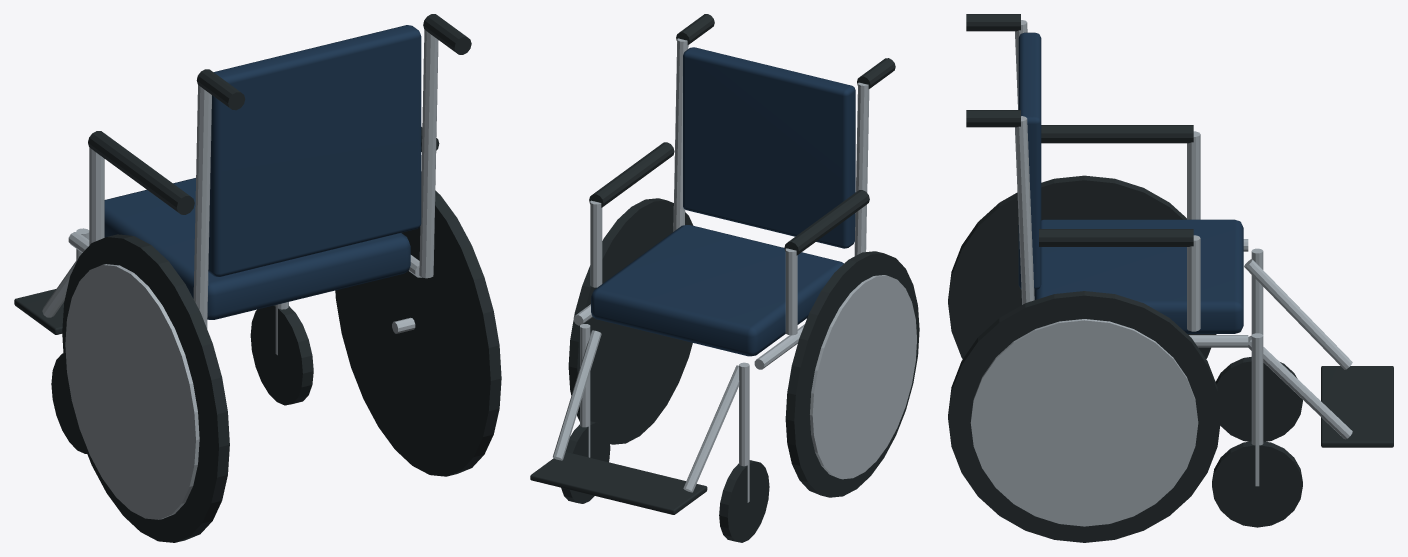
Rendered from wheelchair.fbx.
3 views of the same model, side by side, from view 1: azimuth 30°, elevation 25°; view 2: azimuth 150°, elevation 25°; view 3: azimuth 270°, elevation 25° (orthographic). The views are drawn at different scales.
Parts seen in each view (by area): view 1: EQ_wheelchair_Backrest, EQ_wheelchair_RearWheel1, EQ_wheelchair_HandRim-1, EQ_wheelchair_Body, EQ_wheelchair_RearWheel-1, EQ_wheelchair_Caster1, EQ_wheelchair_BackPost1, EQ_wheelchair_BackPost-1, EQ_wheelchair_Armrest-1, EQ_wheelchair_Caster-1, EQ_wheelchair_ArmPost-1, EQ_wheelchair_Footplate (+3 smaller); view 2: EQ_wheelchair_Backrest, EQ_wheelchair_Body, EQ_wheelchair_HandRim-1, EQ_wheelchair_RearWheel1, EQ_wheelchair_RearWheel-1, EQ_wheelchair_Footplate, EQ_wheelchair_Caster-1, EQ_wheelchair_BackPost-1, EQ_wheelchair_BackPost1, EQ_wheelchair_Caster1, EQ_wheelchair_Armrest-1, EQ_wheelchair_Armrest1 (+9 smaller); view 3: EQ_wheelchair_HandRim1, EQ_wheelchair_RearWheel1, EQ_wheelchair_Body, EQ_wheelchair_RearWheel-1, EQ_wheelchair_Caster1, EQ_wheelchair_Footplate, EQ_wheelchair_Caster-1, EQ_wheelchair_Backrest, EQ_wheelchair_Armrest-1, EQ_wheelchair_Armrest1, EQ_wheelchair_BackPost1, EQ_wheelchair_FootStrut-1 (+8 smaller).
Part boxes in pixels (x1,y1,x2,y2): EQ_wheelchair_Backrest: (208, 25, 421, 276); EQ_wheelchair_RearWheel1: (335, 190, 501, 476); EQ_wheelchair_HandRim-1: (65, 264, 199, 519); EQ_wheelchair_Body: (104, 178, 410, 319); EQ_wheelchair_RearWheel-1: (62, 234, 229, 542); EQ_wheelchair_Caster1: (250, 305, 313, 405); EQ_wheelchair_BackPost1: (419, 29, 438, 278); EQ_wheelchair_BackPost-1: (193, 85, 211, 328); EQ_wheelchair_Armrest-1: (88, 131, 194, 214); EQ_wheelchair_Caster-1: (51, 353, 86, 453); EQ_wheelchair_ArmPost-1: (89, 147, 104, 245); EQ_wheelchair_Footplate: (14, 289, 64, 334); EQ_wheelchair_Backrest: (683, 47, 855, 248); EQ_wheelchair_Body: (591, 225, 843, 356); EQ_wheelchair_HandRim-1: (810, 275, 916, 479); EQ_wheelchair_RearWheel1: (568, 198, 693, 444); EQ_wheelchair_RearWheel-1: (785, 251, 919, 497); EQ_wheelchair_Footplate: (530, 452, 707, 514); EQ_wheelchair_Caster-1: (719, 460, 769, 542); EQ_wheelchair_BackPost-1: (854, 82, 869, 255); EQ_wheelchair_BackPost1: (673, 38, 688, 231); EQ_wheelchair_Caster1: (561, 421, 610, 503); EQ_wheelchair_Armrest-1: (784, 190, 869, 255); EQ_wheelchair_Armrest1: (589, 142, 674, 207); EQ_wheelchair_HandRim1: (970, 319, 1198, 526); EQ_wheelchair_RearWheel1: (948, 291, 1220, 542); EQ_wheelchair_Body: (1034, 219, 1243, 333); EQ_wheelchair_RearWheel-1: (948, 175, 1216, 358); EQ_wheelchair_Caster1: (1212, 441, 1302, 527); EQ_wheelchair_Footplate: (1321, 366, 1393, 447); EQ_wheelchair_Caster-1: (1215, 357, 1302, 441); EQ_wheelchair_Backrest: (1018, 32, 1041, 289); EQ_wheelchair_Armrest-1: (1041, 125, 1193, 143); EQ_wheelchair_Armrest1: (1039, 229, 1193, 246); EQ_wheelchair_BackPost1: (1015, 116, 1034, 304); EQ_wheelchair_FootStrut-1: (1244, 259, 1352, 369).
Size of the model in its own units: 0.668 by 1.02 by 0.98.
